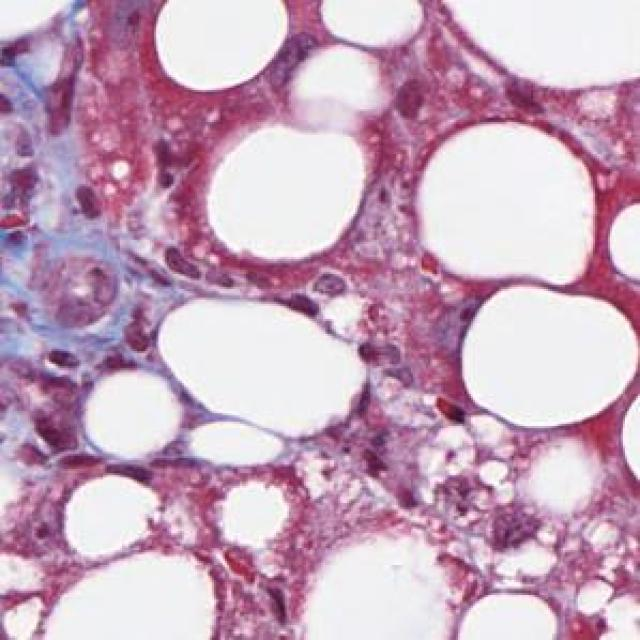inflammation: (115, 238, 242, 296), (480, 494, 552, 554)
